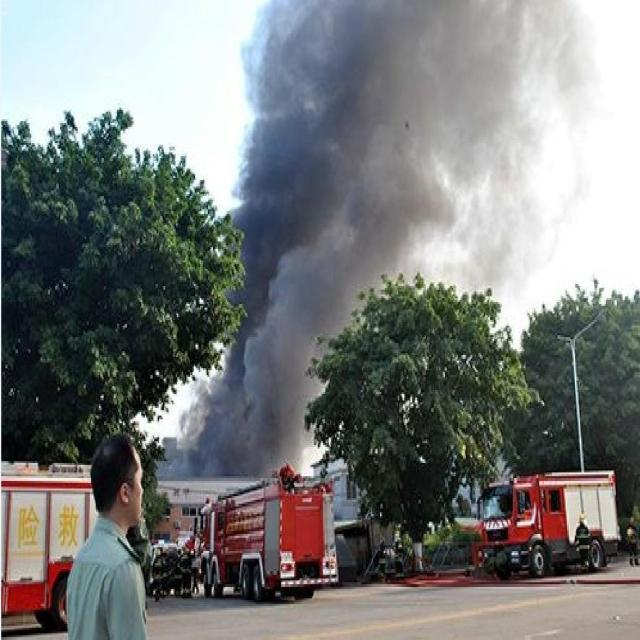Smoke: (154, 1, 598, 480)
